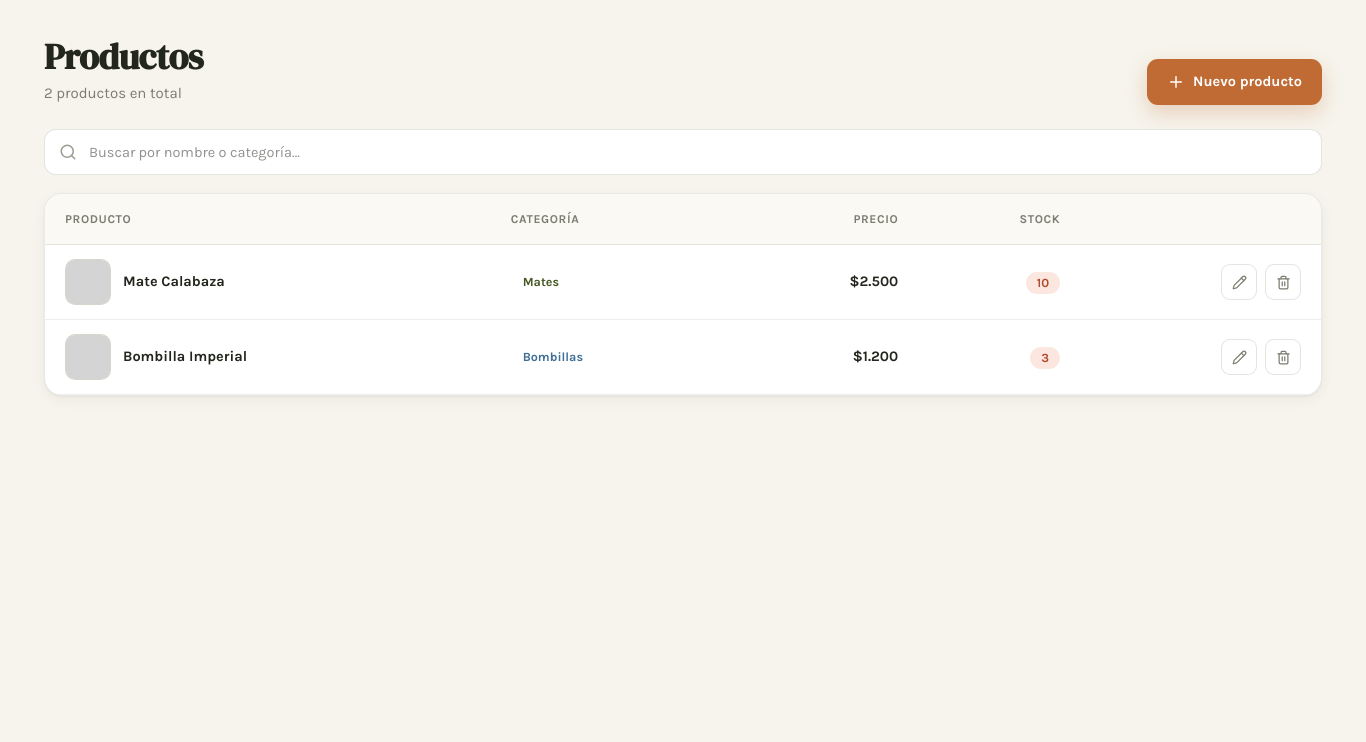
Test: AdminProducts › shows price validation error when price is 0
This screenshot has width=1366, height=742.
Click the button "Nuevo producto". click: coordinates (1235, 82)
box: [1147,59,1322,105]
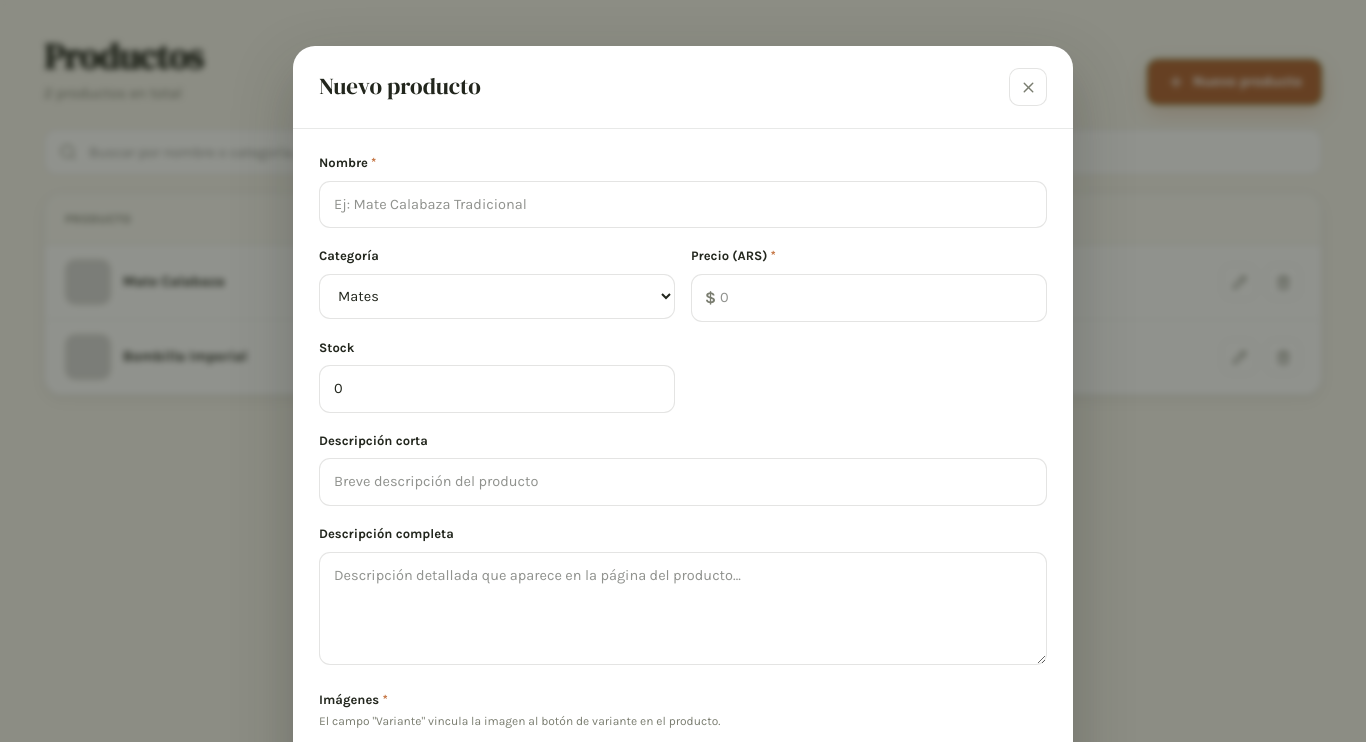
Fill name but not price
Type "Nuevo Mate" into the field with placeholder "Ej: Mate Calabaza Tradicional". click: coordinates (683, 204)
box: [319,180,1047,228]
(page scrolled)
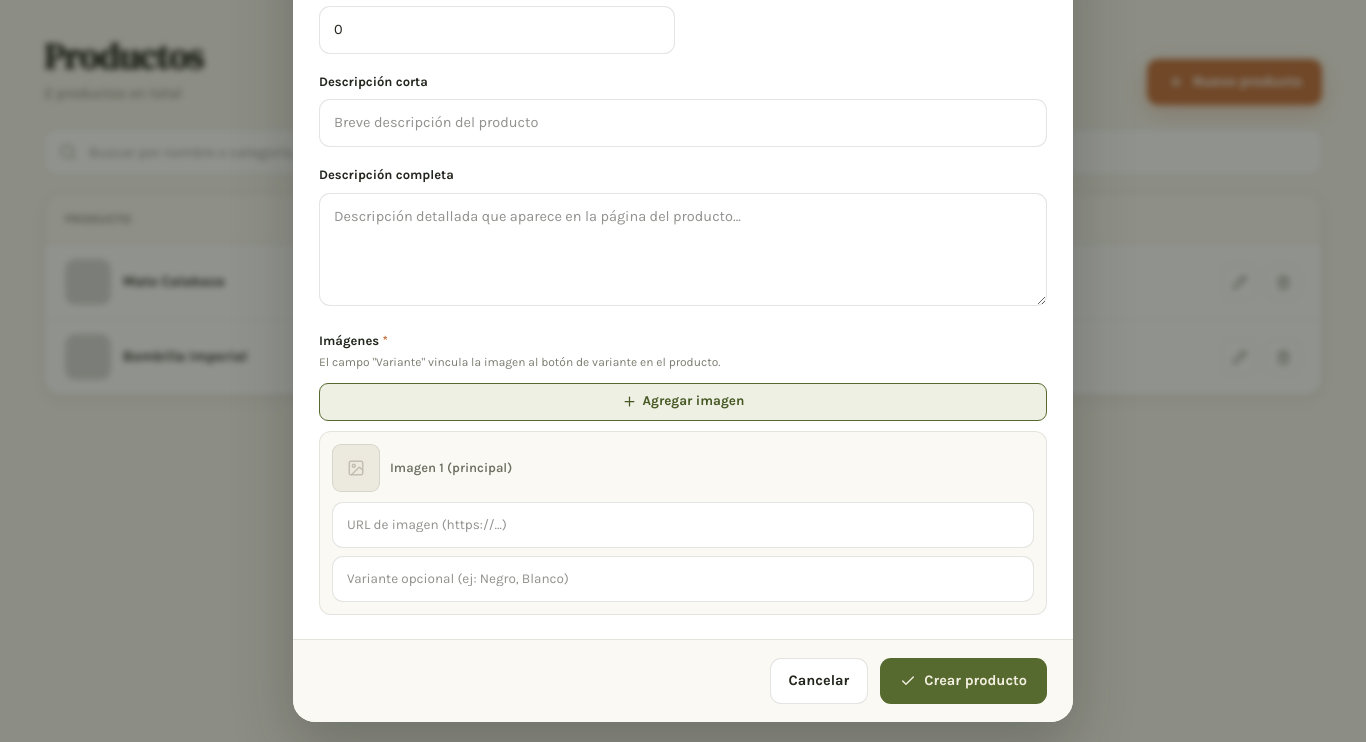
Click the button "Crear producto". click: coordinates (964, 681)
box: [880,658,1047,704]
(page scrolled)
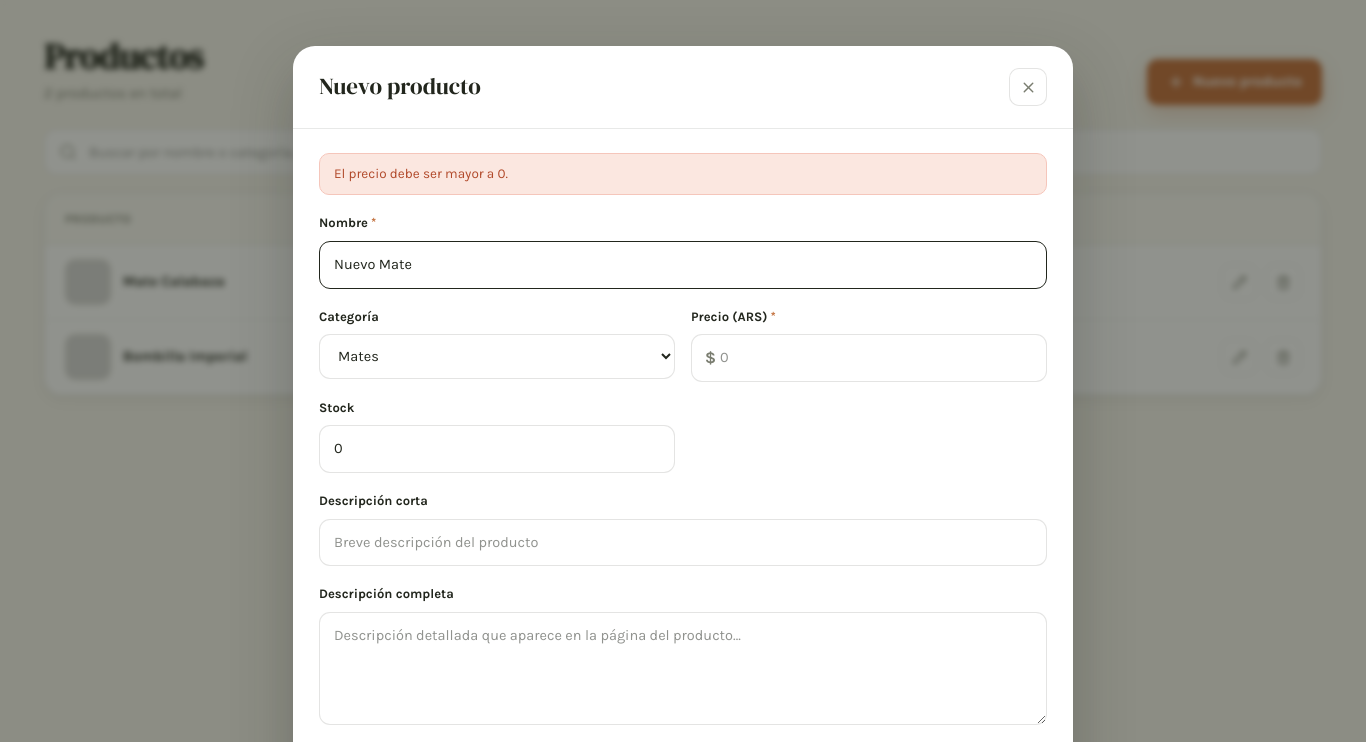
Expected: the text "El precio debe ser mayor a 0." is shown, [319,153,1047,195]
